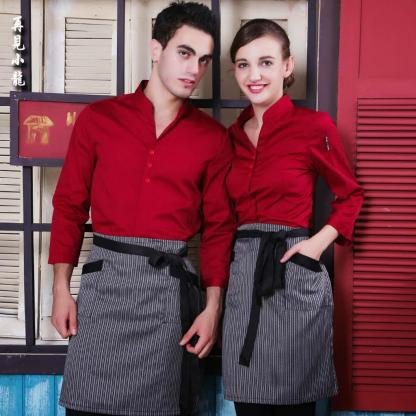face: (164, 18, 216, 98), (235, 33, 285, 105)
